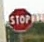stop: (7, 8, 32, 31)
